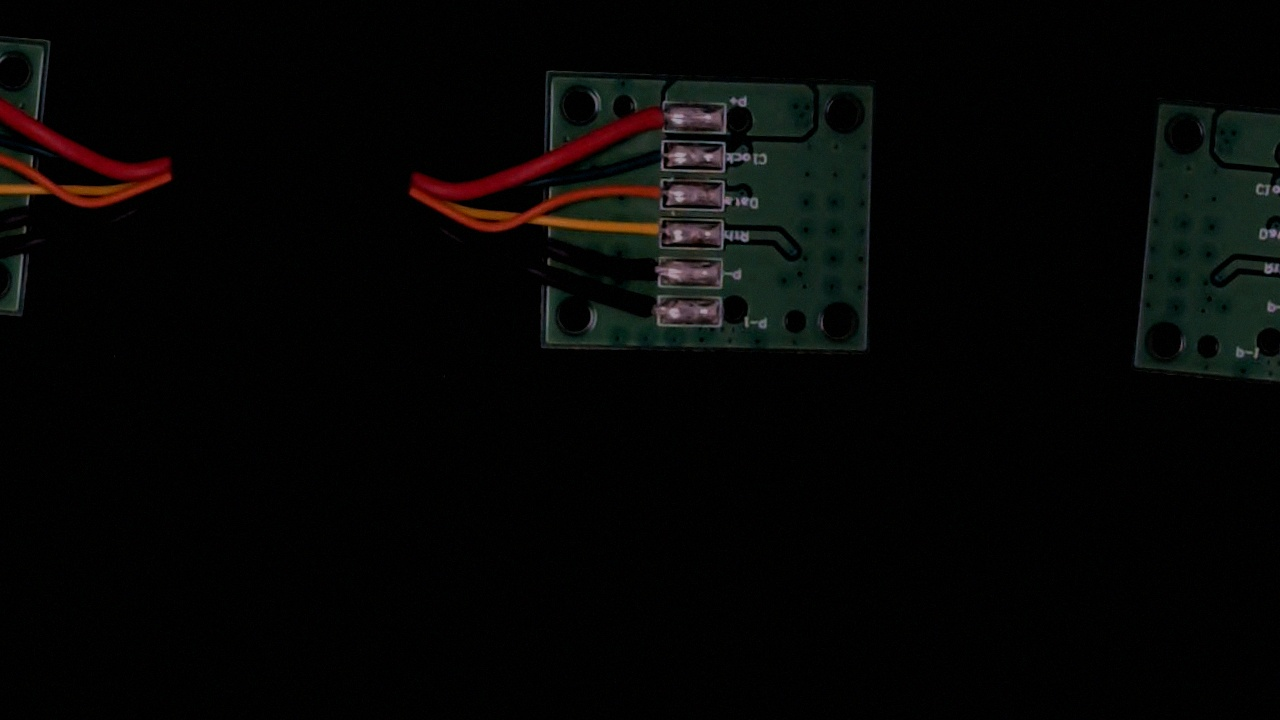Black: (612, 254, 678, 286)
Black1: (615, 293, 677, 327)
Green: (617, 136, 683, 169)
Orange: (617, 175, 682, 206)
Red: (612, 98, 684, 136)
Yellow: (615, 214, 680, 249)
